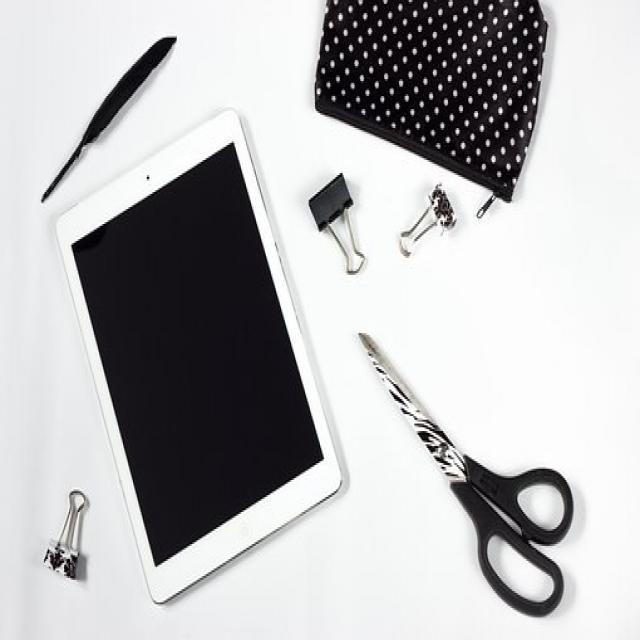scissors: (355, 315, 578, 623)
